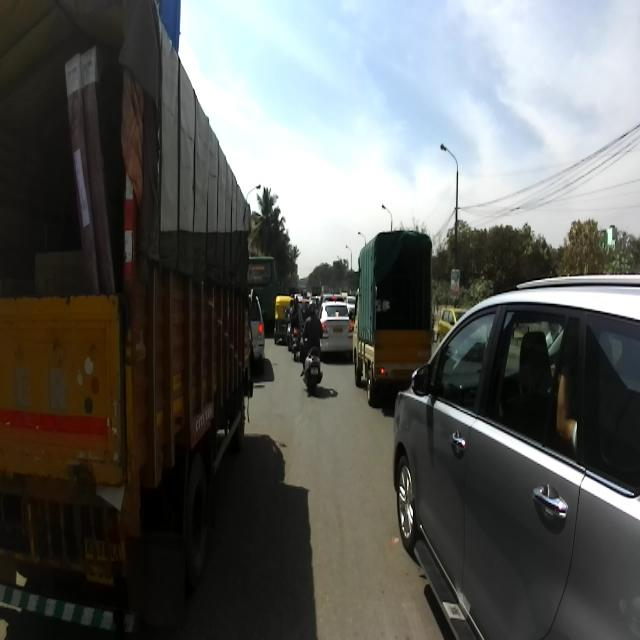Car_Toyota: (393, 274, 639, 636)
truck: (0, 0, 258, 639)
